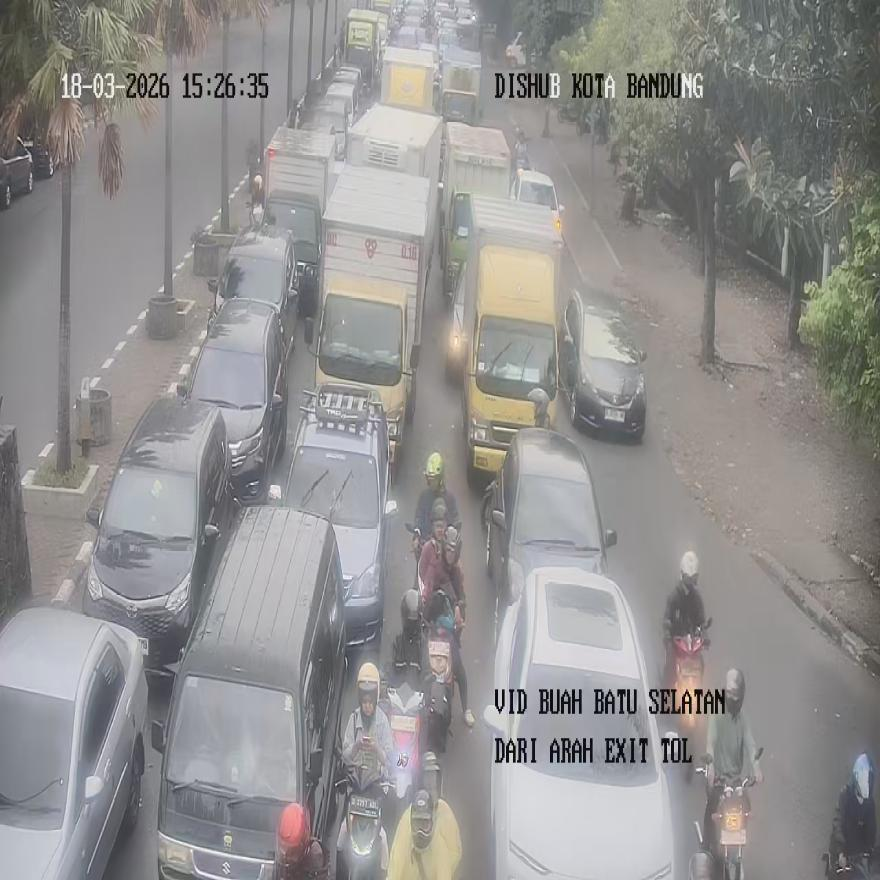Mobil: (151, 507, 347, 878), (483, 567, 677, 879), (81, 396, 235, 678), (0, 606, 148, 877), (275, 382, 397, 647), (483, 427, 616, 633), (177, 298, 289, 504), (561, 287, 647, 438), (439, 122, 510, 298), (207, 224, 299, 358), (511, 168, 564, 246)
Motor: (694, 748, 760, 879), (334, 759, 393, 880), (386, 792, 462, 879), (824, 753, 876, 880), (662, 617, 712, 735), (383, 683, 423, 804), (422, 621, 455, 753)
Truk ringan: (304, 165, 434, 478), (459, 194, 562, 486)
